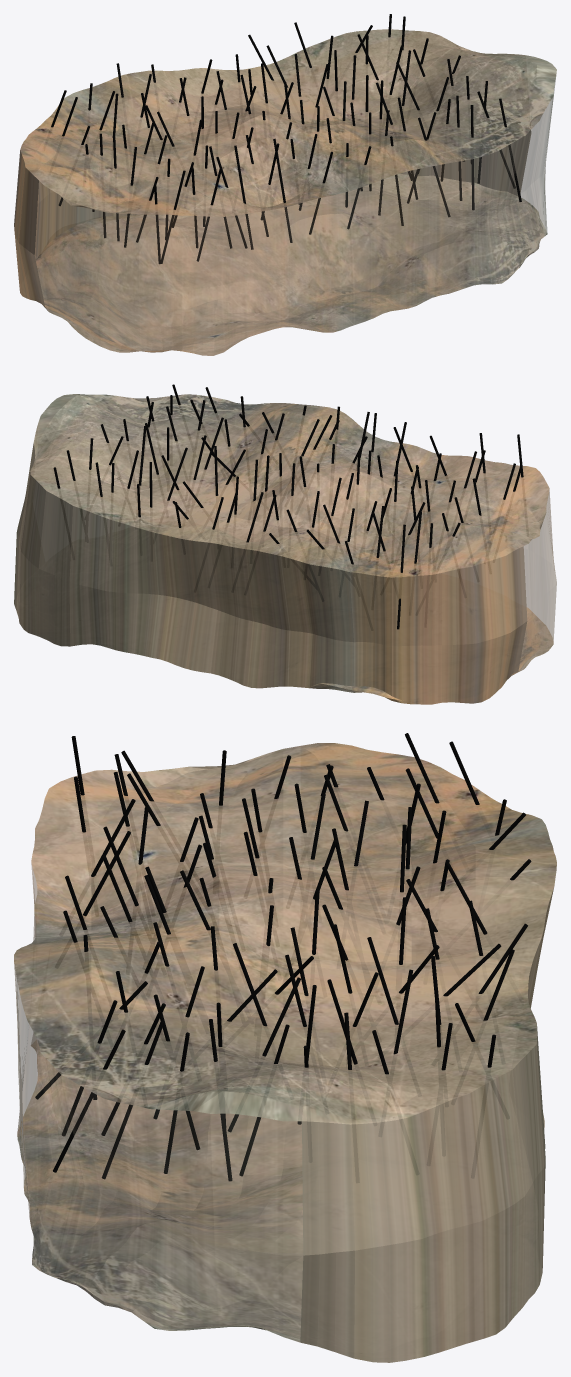
The picture shows the model from 3 angles, top to bottom: view 1: azimuth 30°, elevation 25°; view 2: azimuth 150°, elevation 25°; view 3: azimuth 270°, elevation 25°; orthographic projection. The views are drawn at different scales.
Visible parts, largest first — view 1: image_2026-07-06_13-10-01, Cylinder.049, Cylinder.050; view 2: image_2026-07-06_13-10-01; view 3: image_2026-07-06_13-10-01, Cylinder.049.
Boxes of the visible parts, x1,y1,x2,y2 form: image_2026-07-06_13-10-01: [14, 29, 556, 355]; Cylinder.049: [234, 138, 292, 249]; Cylinder.050: [160, 168, 221, 263]; image_2026-07-06_13-10-01: [14, 394, 556, 704]; image_2026-07-06_13-10-01: [14, 743, 556, 1362]; Cylinder.049: [83, 799, 135, 916].
Size of the model in its own units: 1.89 by 0.7295 by 1.11.
Materials: 3 (2 with a texture image).
